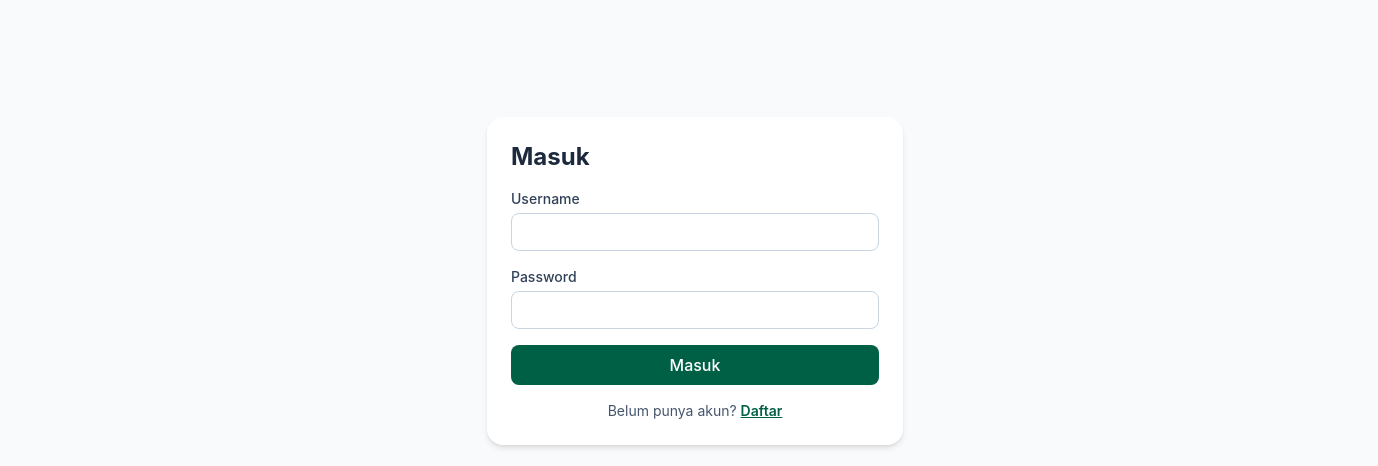
Test: LoginPage › login admin -> /admin
Type "admin" into the field with id "login-username" at [695, 232], box [511,213,879,251]
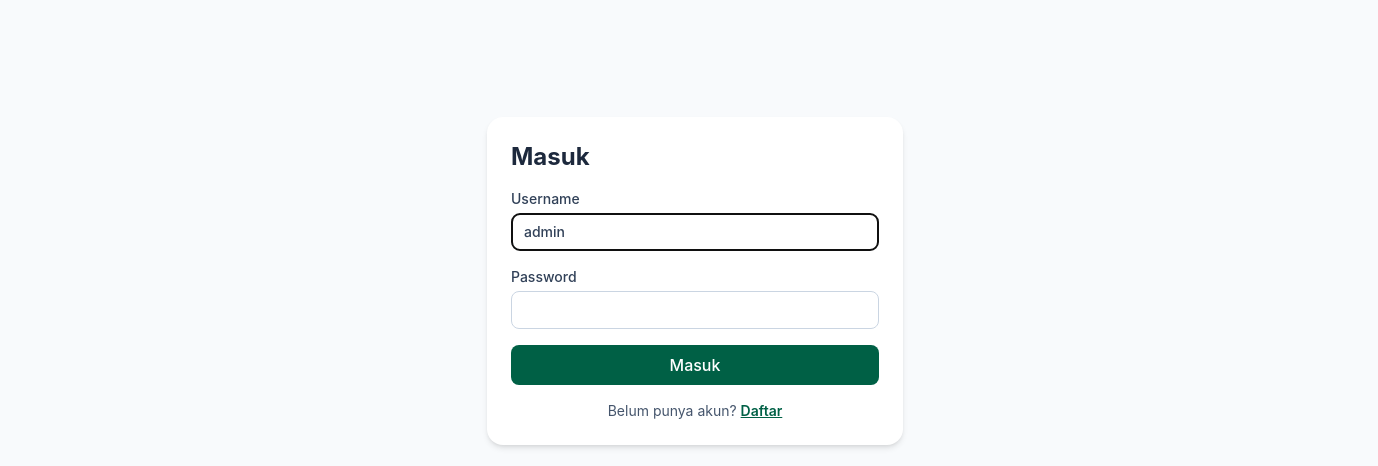
Type "admin" into the password field with id "login-password" at [695, 310], box [511,291,879,329]
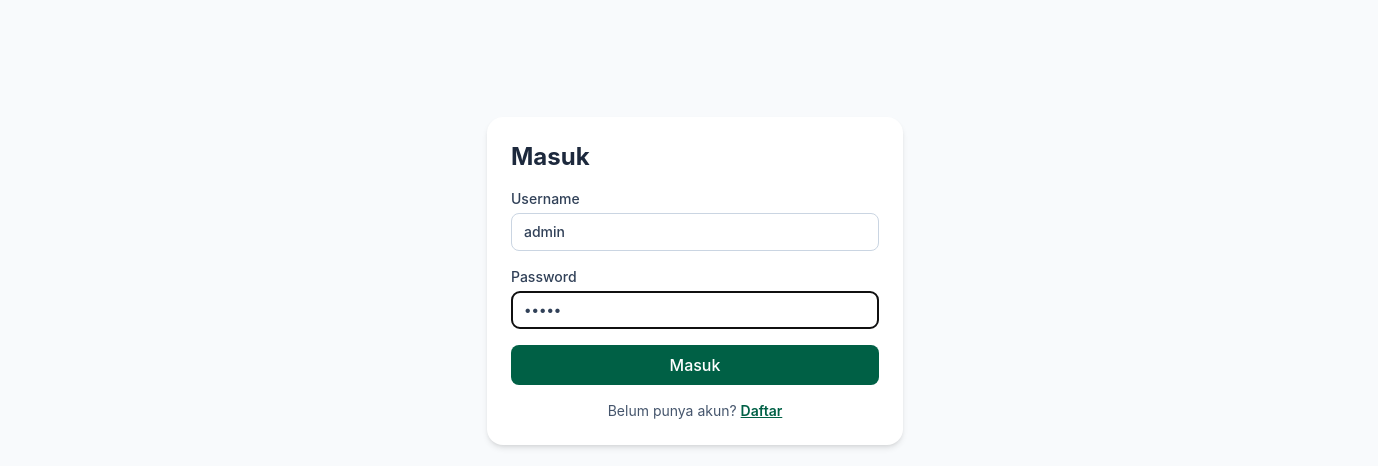
Click the button with id "login-submit" at [695, 365], box [511,345,879,385]
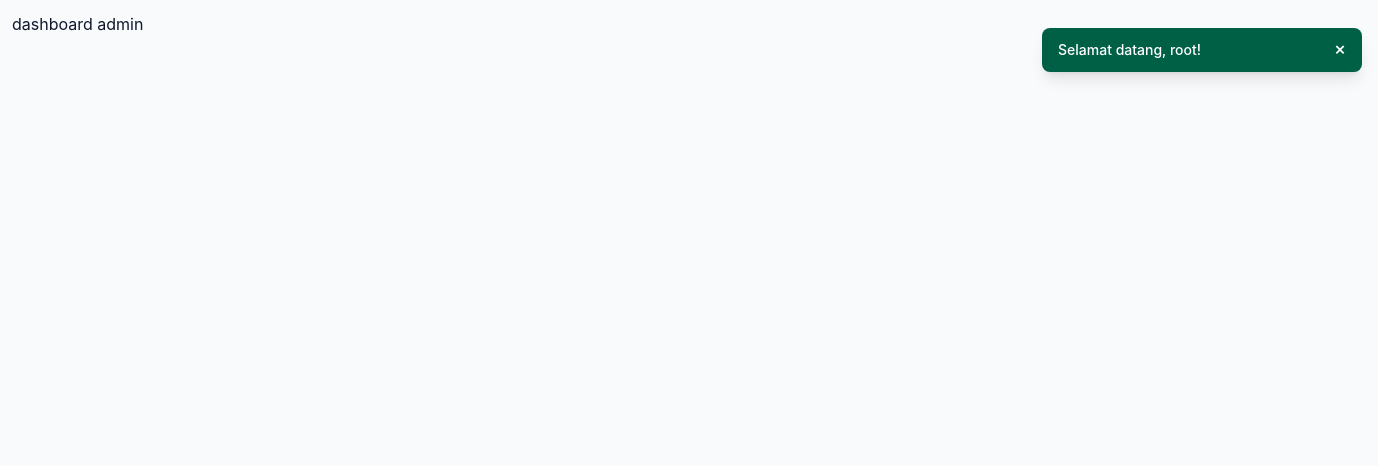
Result: the text "dashboard admin" is shown at [12,14,143,34]
